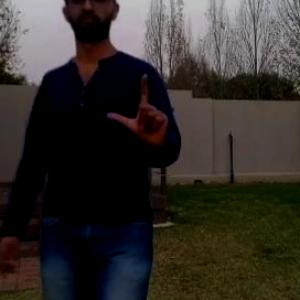land_hand: (100, 64, 176, 155)
